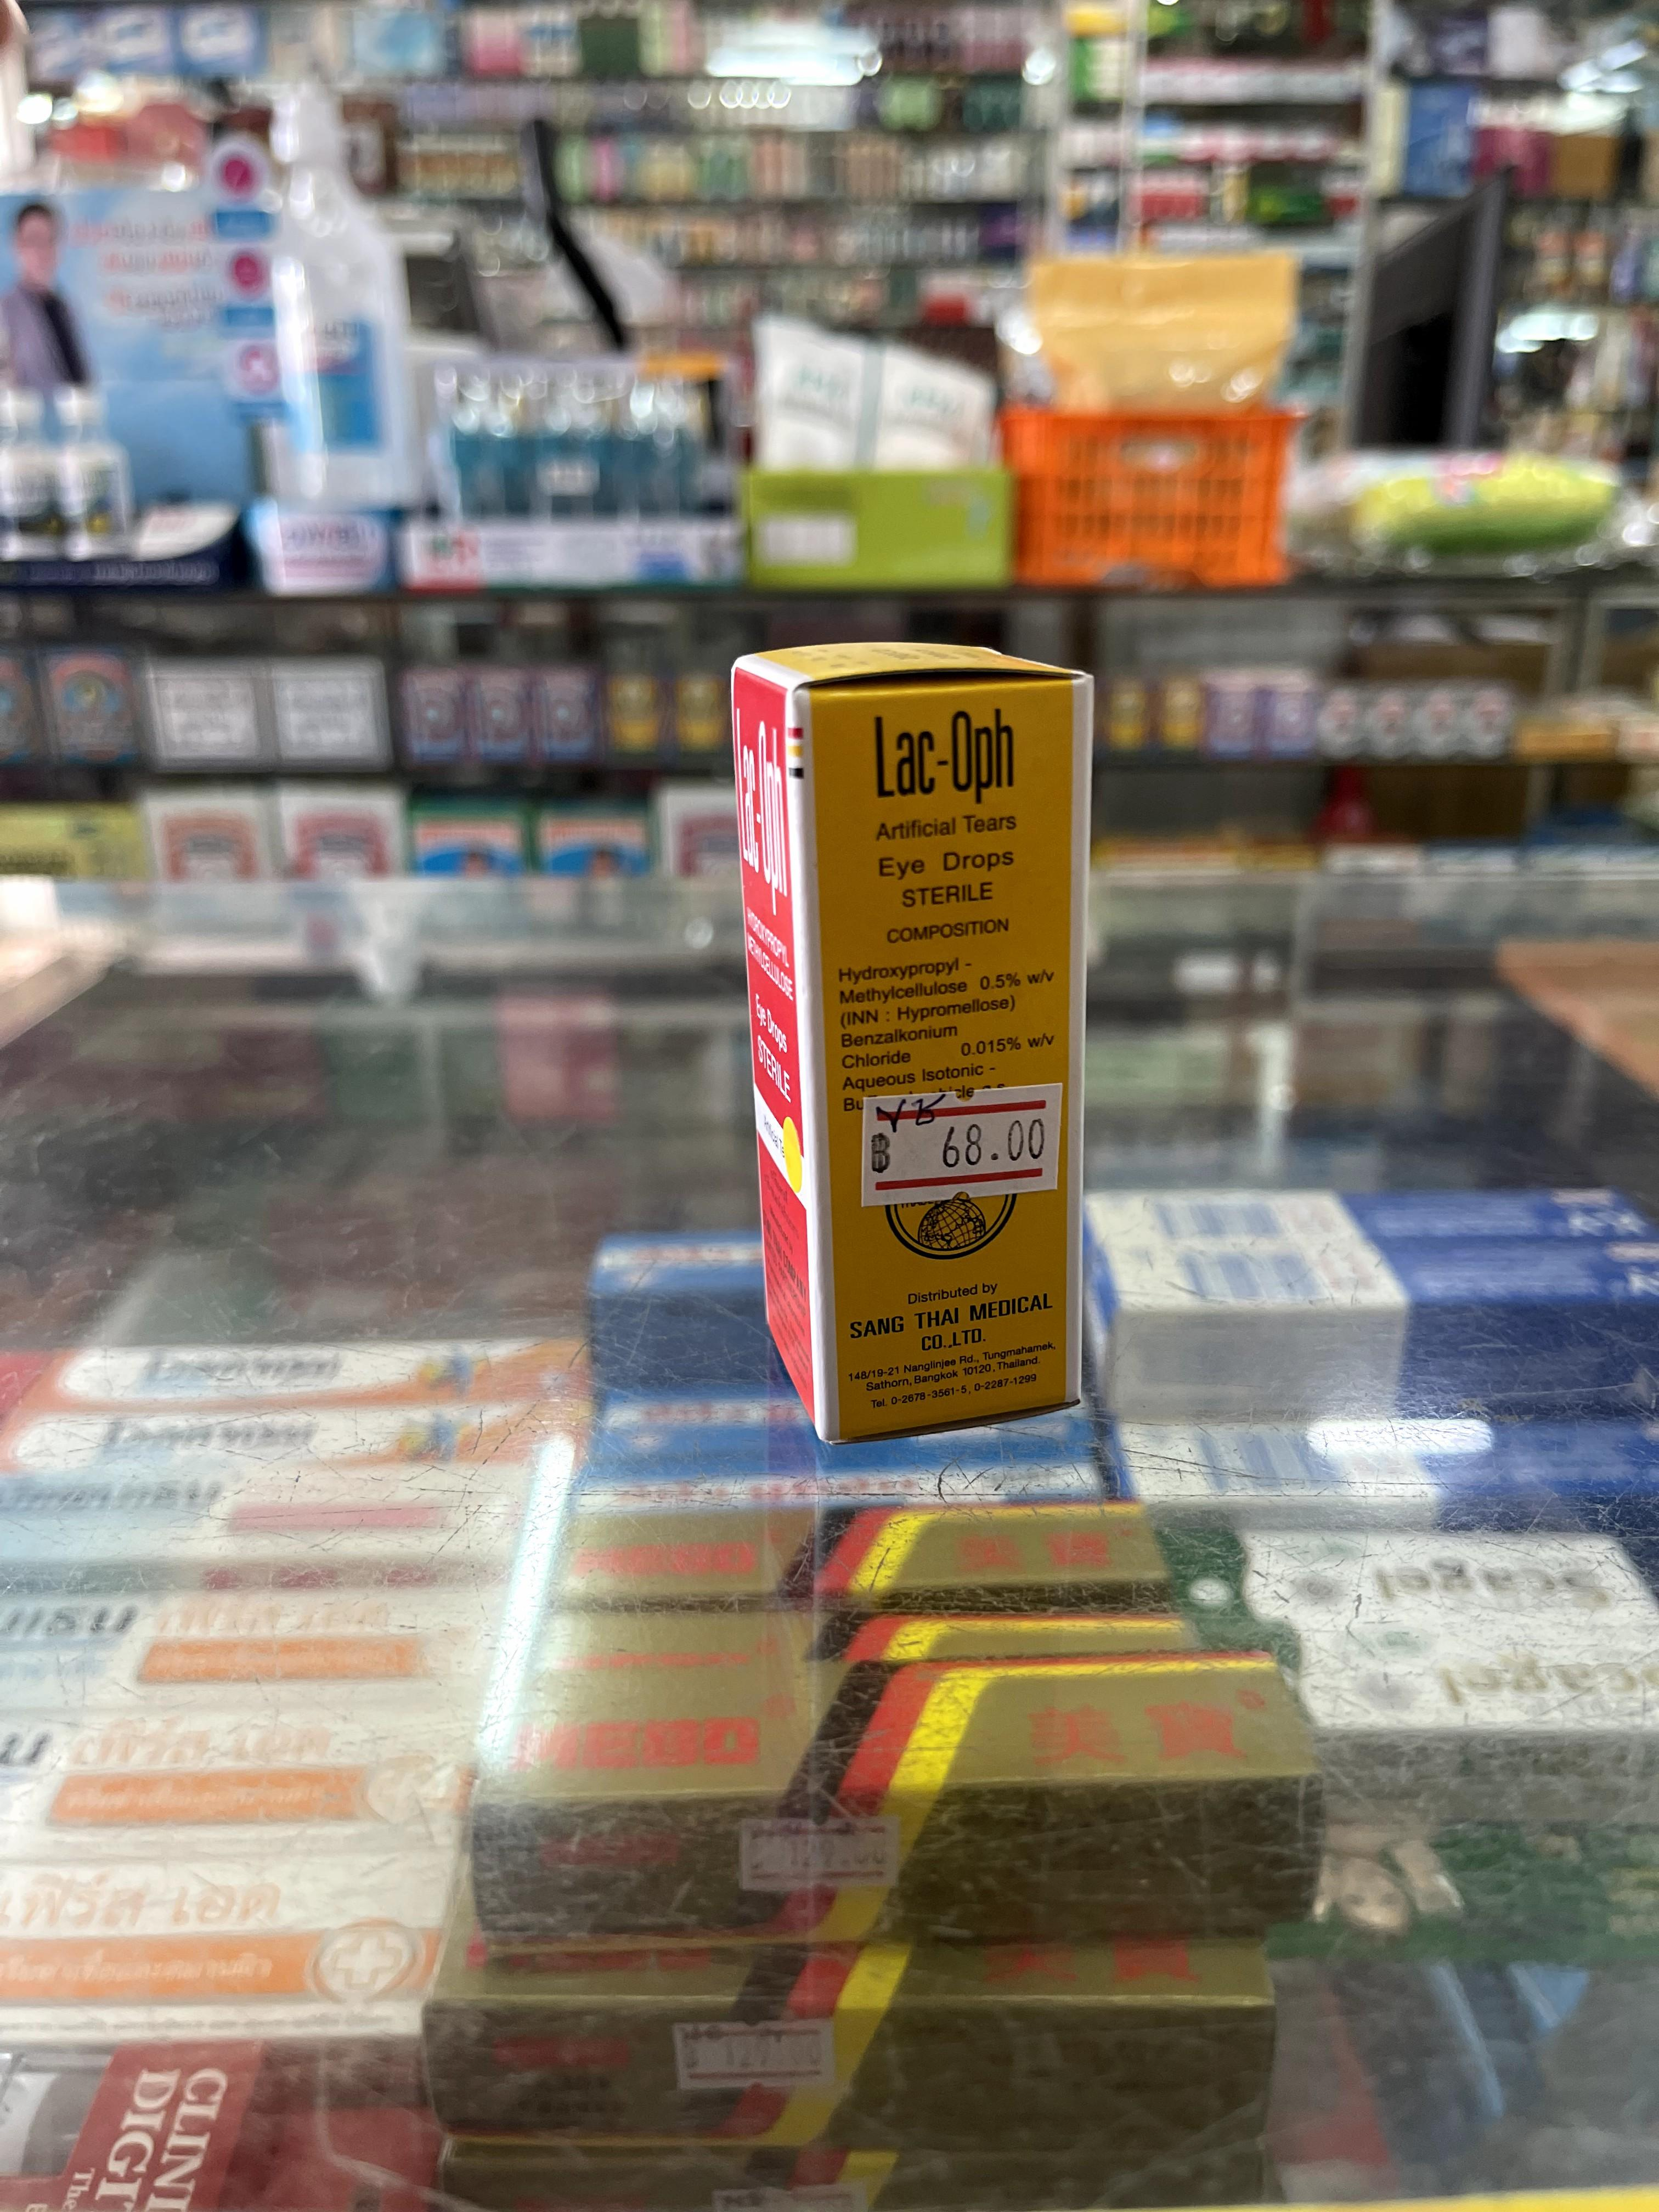Lac-Oph_Red: (732, 636, 1086, 1446)
